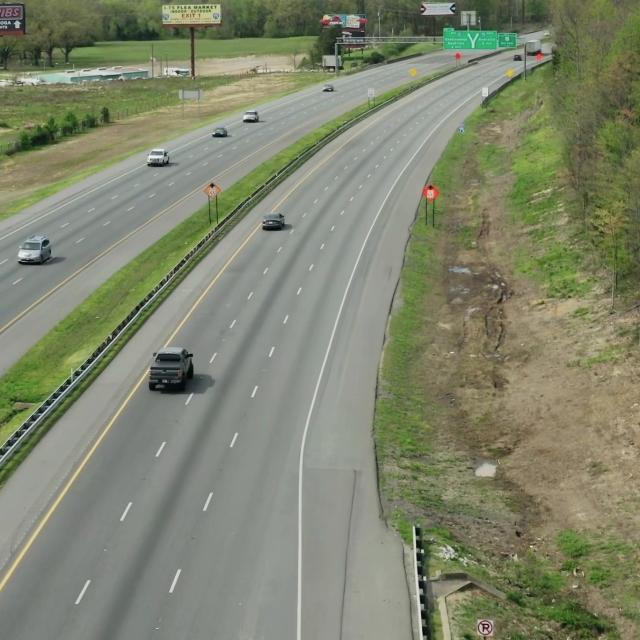Car: (149, 345, 198, 393), (21, 236, 53, 266), (261, 210, 285, 234), (146, 146, 170, 170), (210, 124, 230, 141)
